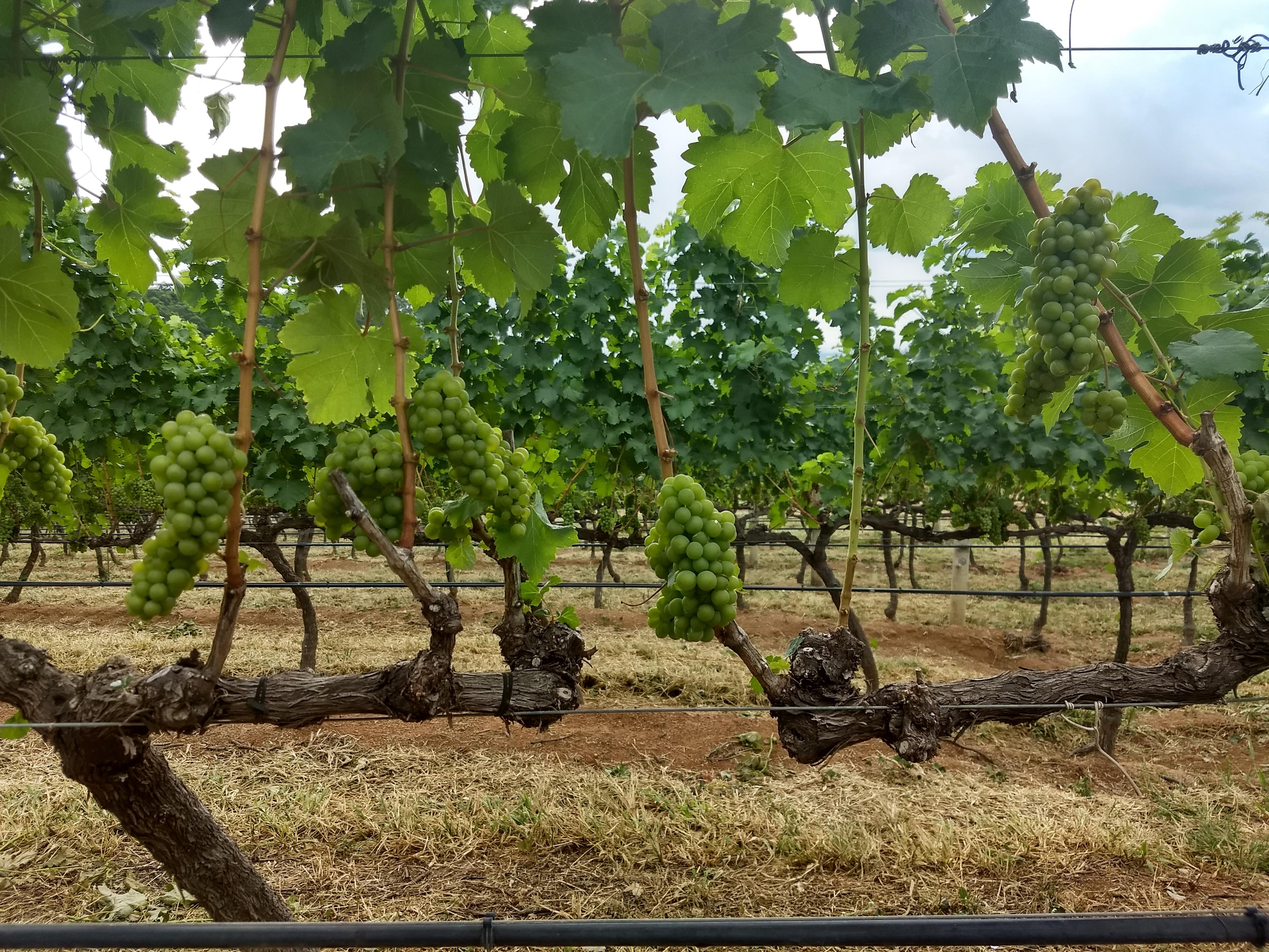leaf: (856, 0, 1060, 133), (279, 292, 394, 423), (764, 41, 932, 128), (88, 165, 185, 291), (0, 228, 78, 367), (280, 109, 387, 192), (0, 76, 75, 189), (1135, 238, 1228, 320), (494, 493, 578, 583), (868, 173, 954, 256), (524, 0, 620, 69), (1107, 192, 1182, 279), (778, 230, 857, 312), (558, 152, 619, 250), (1167, 327, 1263, 379), (322, 9, 396, 72), (407, 354, 417, 388), (403, 315, 411, 323), (407, 331, 408, 335), (389, 18, 390, 21), (415, 329, 416, 332), (403, 328, 403, 329)
